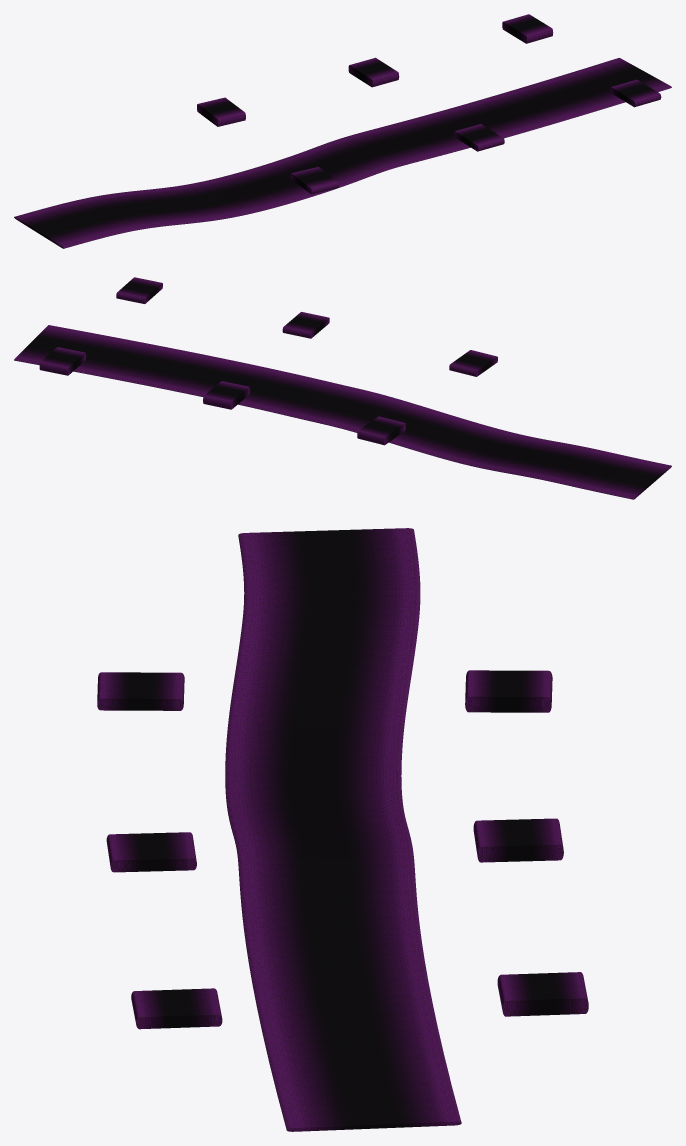
Rendered from level-03-track-09.glb.
3 renders of one model, top to bottom at view 1: azimuth 30°, elevation 25°; view 2: azimuth 150°, elevation 25°; view 3: azimuth 270°, elevation 25°, orthographic. The views are drawn at different scales.
Visible parts, largest first — view 1: track-09-a.001-col; view 2: track-09-a.001-col; view 3: track-09-a.001-col.
Part boxes in pixels (x1,y1,x2,y2): track-09-a.001-col: (14,14,671,248); track-09-a.001-col: (14,277,671,499); track-09-a.001-col: (97,528,588,1131).
Bounding box in the file's own units: 137 × 9.24 × 47.4.
14 materials, 14 textured.
